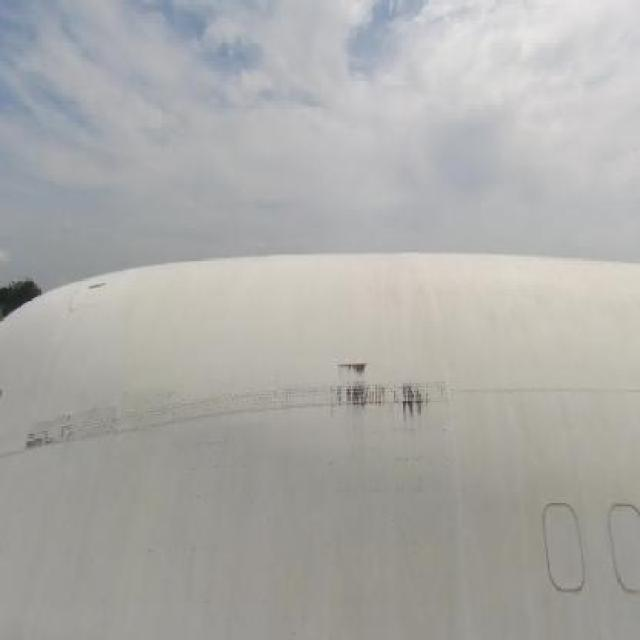Rust: (328, 347, 448, 436)
Scartch: (16, 409, 92, 465)
